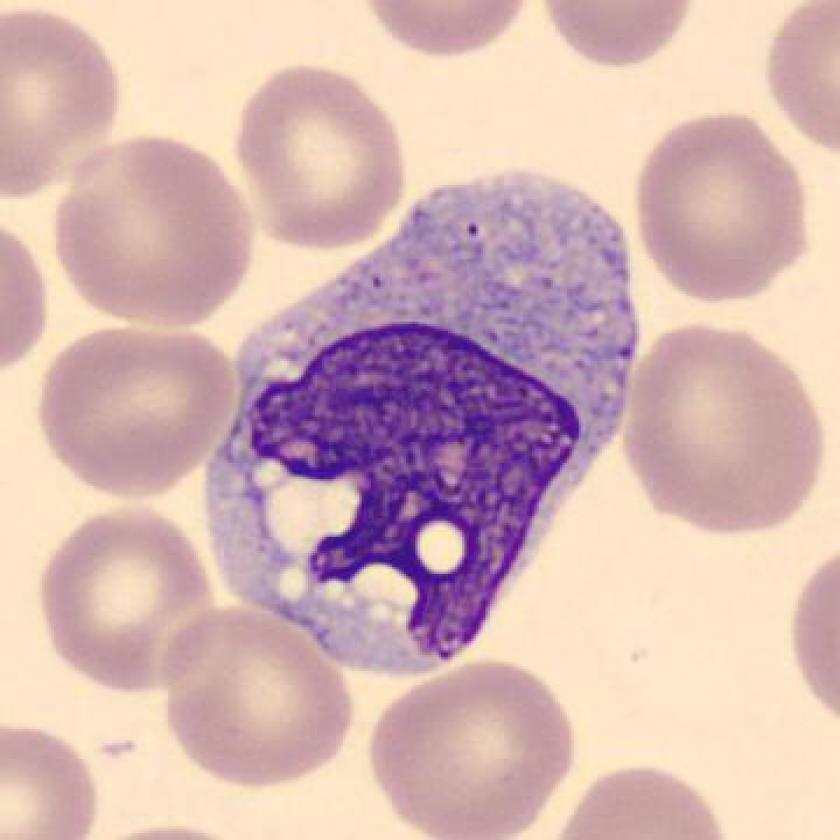monocyte: (190, 161, 668, 691)
